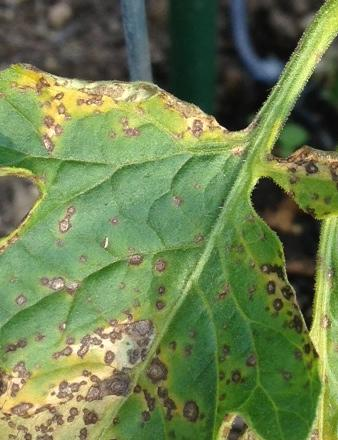Tomato Septoria leaf spot: (0, 48, 338, 440), (187, 246, 338, 440)
